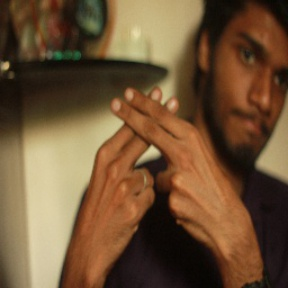F: (77, 72, 226, 190)
